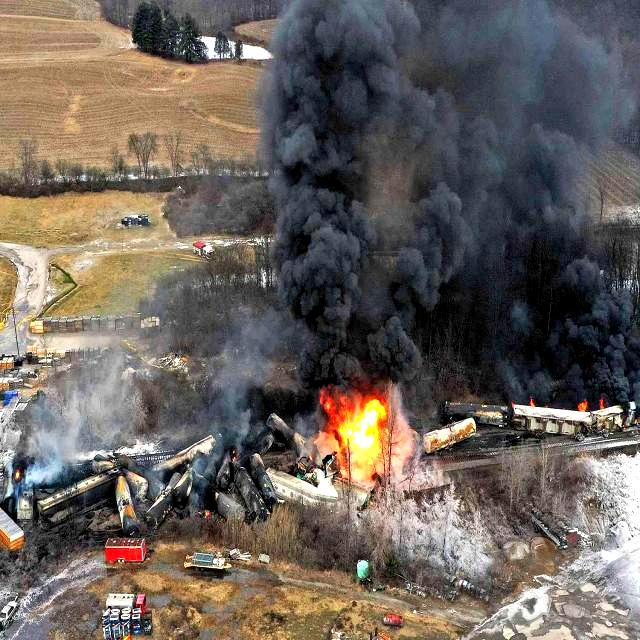fire: (320, 384, 394, 480)
